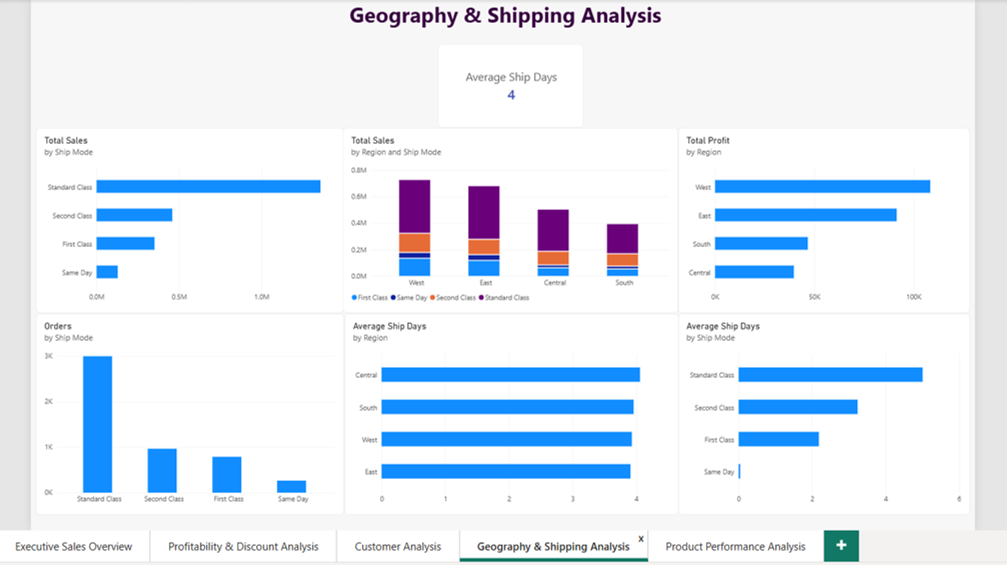

Layout of this report page (visuals, bound fields, positions):
{"tool":"powerbi","page":{"name":"Geography & Shipping Analysis","canvas":[1920,1080],"ordinal":3},"visuals":[{"type":"textbox","box":[10.3,0,1910.1,123.5],"z":0},{"type":"cardVisual","fields":{"Data":["Orders.Average Ship Days"]},"box":[829.5,90.6,296.4,170.8],"z":1000},{"type":"clusteredBarChart","fields":{"Category":["Orders.Ship Mode"],"Y":["Orders.Total Sales"]},"box":[10.3,261.4,625.7,376.7],"z":2000},{"type":"clusteredBarChart","fields":{"Category":["Orders.Ship Mode"],"Y":["Orders.Average Ship Days"]},"box":[1317.3,638.1,592.8,409.6],"z":3000},{"type":"columnChart","fields":{"Category":["Orders.Region"],"Series":["Orders.Ship Mode"],"Y":["Orders.Total Sales"]},"box":[636,261.4,681.3,376.7],"z":4000},{"type":"clusteredBarChart","fields":{"Category":["Orders.Region"],"Y":["Orders.Total Profit"]},"box":[1317.3,261.4,592.8,376.7],"z":4001},{"type":"clusteredColumnChart","fields":{"Category":["Orders.Ship Mode"],"Y":["Orders.Total Orders"]},"box":[10.3,638.1,625.7,409.6],"z":4002},{"type":"clusteredBarChart","fields":{"Category":["Orders.Region"],"Y":["Orders.Average Ship Days"]},"box":[638.1,638.1,679.2,409.6],"z":4003}]}

Visuals, with their boxes on the page's 1920x1080 design canvas (x1, y1, x2, y2). These are canvas units, not pixel positions in the 1007x565 screenshot, which may show the page scaled, cropped or inside an application window:
textbox: [10, 0, 1920, 124]
cardVisual - Orders.Average Ship Days: [830, 91, 1126, 261]
clusteredBarChart - Orders.Ship Mode x Orders.Total Sales: [10, 261, 636, 638]
clusteredBarChart - Orders.Ship Mode x Orders.Average Ship Days: [1317, 638, 1910, 1048]
columnChart - Orders.Region x Orders.Ship Mode: [636, 261, 1317, 638]
clusteredBarChart - Orders.Region x Orders.Total Profit: [1317, 261, 1910, 638]
clusteredColumnChart - Orders.Ship Mode x Orders.Total Orders: [10, 638, 636, 1048]
clusteredBarChart - Orders.Region x Orders.Average Ship Days: [638, 638, 1317, 1048]
